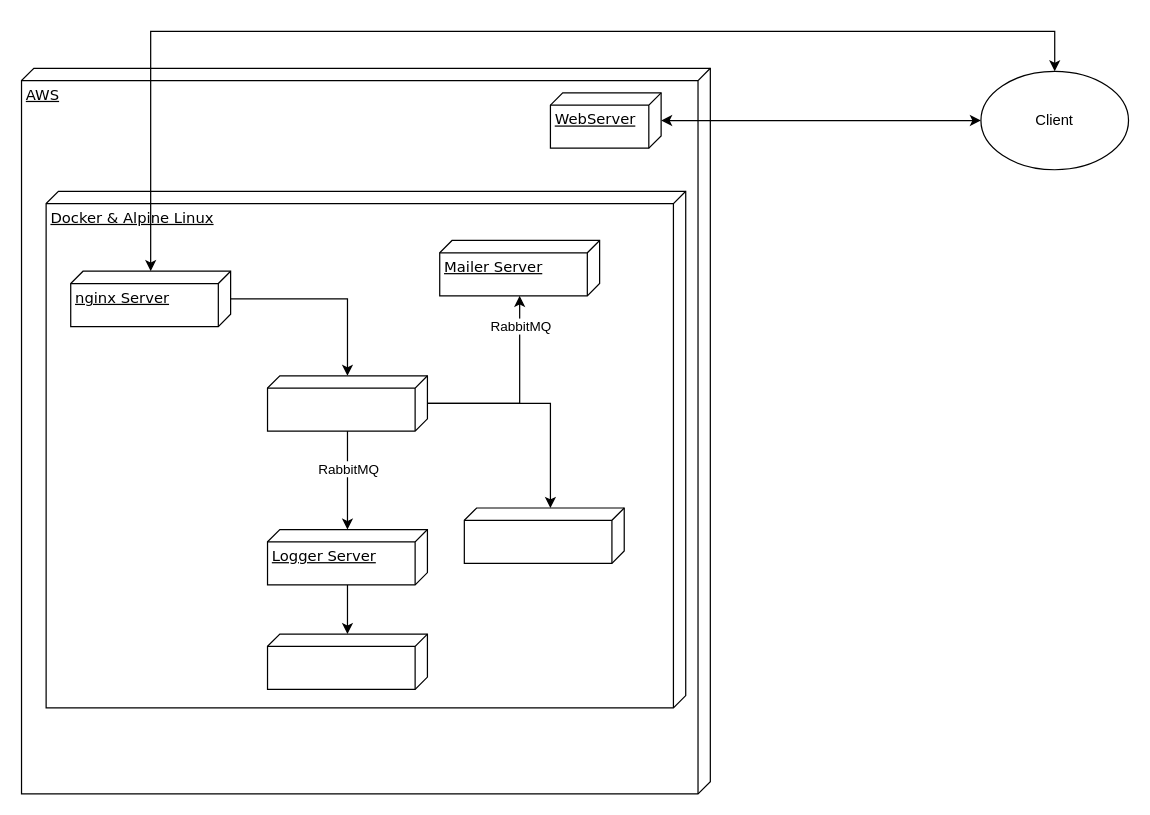
Some shapes in this 1150 by 815 pixel diagram are drawn without their labels. Each missing label, with the centre of its shape:
Main Server: point 346,403
MongoDB Server: point 346,661
MySQL WebServer: point 543,535
